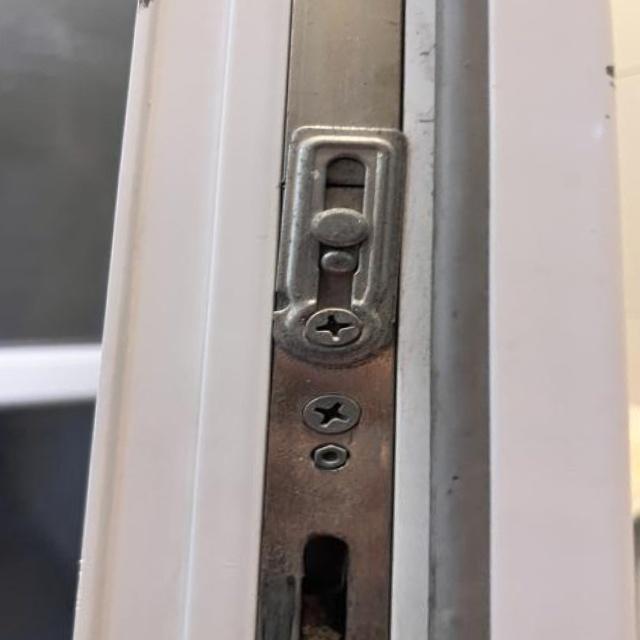allen: (314, 445, 349, 470)
phillips: (301, 393, 363, 435), (305, 307, 363, 347)
